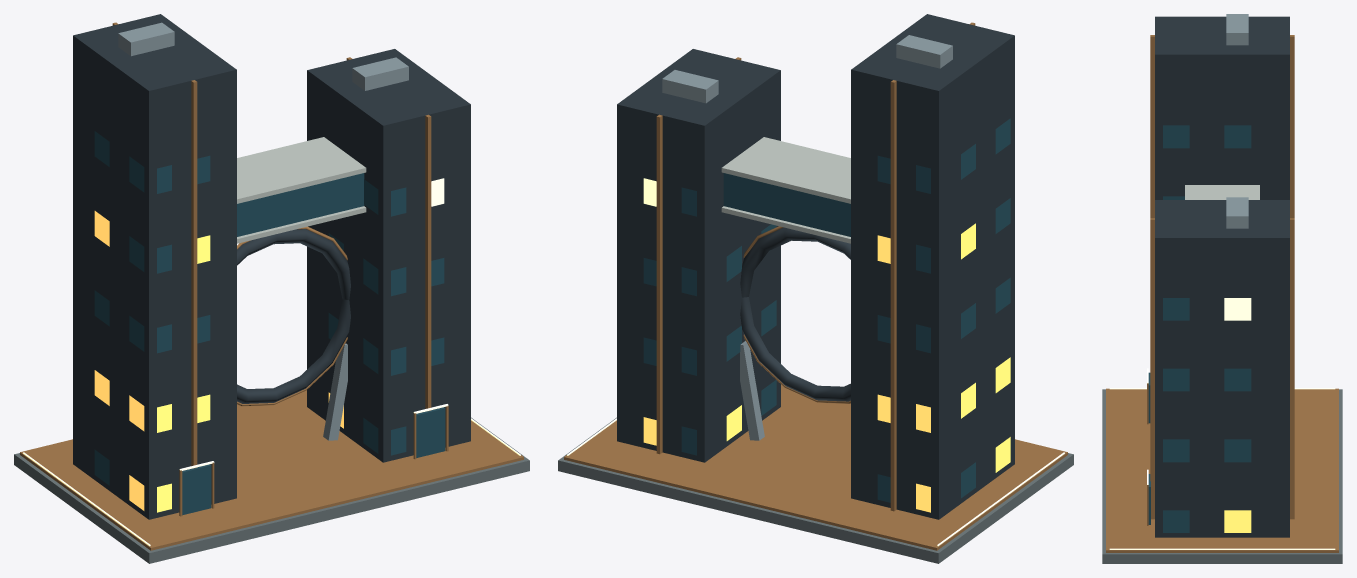
The model's file is integration-gate.lod2.glb.
3 renders of one model, left to right at view 1: azimuth 30°, elevation 25°; view 2: azimuth 150°, elevation 25°; view 3: azimuth 270°, elevation 25°, orthographic. The views are drawn at different scales.
Visible parts, largest first — view 1: structure; view 2: structure; view 3: structure.
Part boxes in pixels (x1=…): structure: x1=14, y1=14, x2=529, y2=563; structure: x1=558, y1=14, x2=1073, y2=563; structure: x1=1102, y1=14, x2=1342, y2=563.
Size of the model in its own units: 26 by 29.9 by 16.
